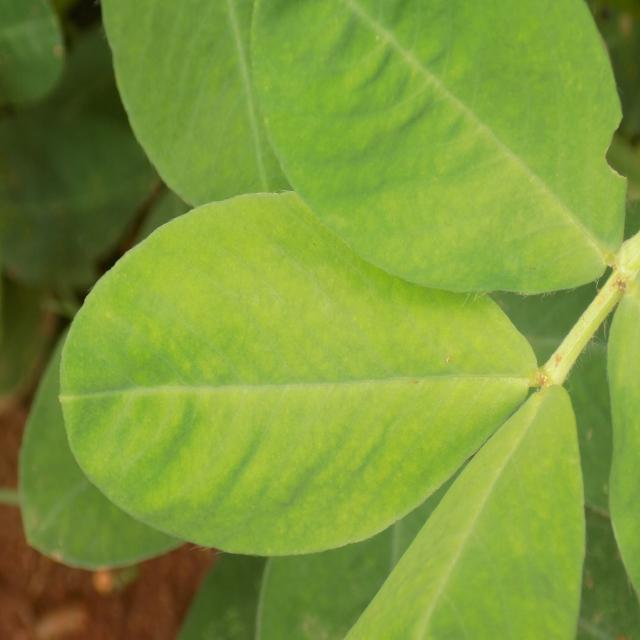Ground nut_healthy: (61, 186, 533, 555)
